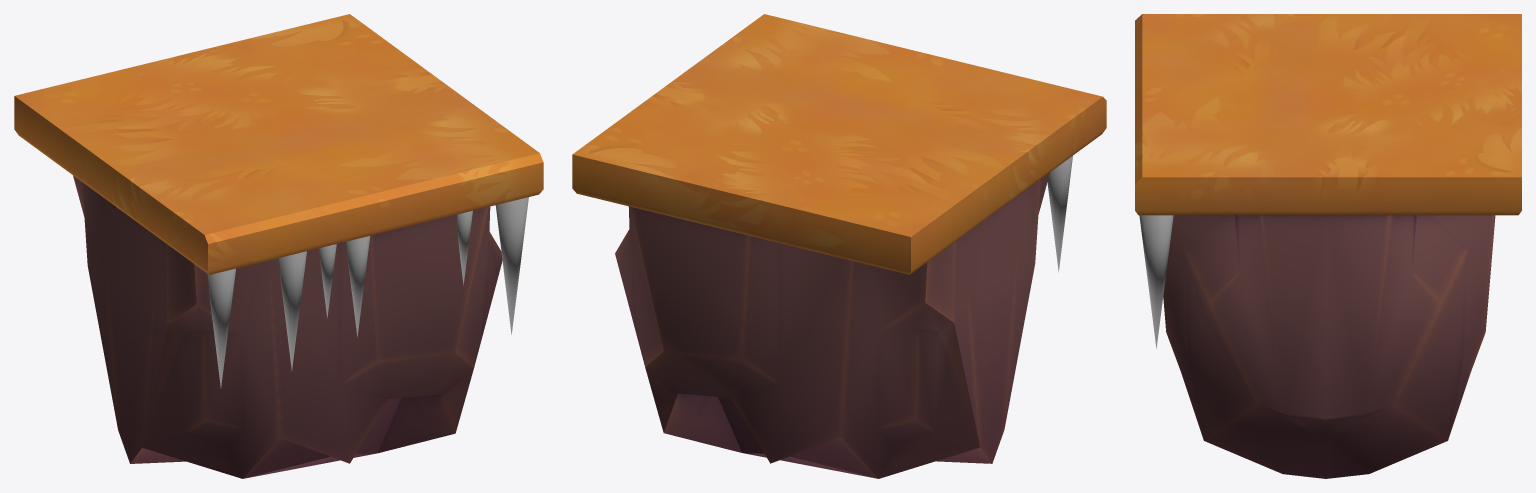
File: Side.FBX
3 views of the same model, side by side, from view 1: azimuth 30°, elevation 25°; view 2: azimuth 150°, elevation 25°; view 3: azimuth 270°, elevation 25° (orthographic).
Visible parts, largest first — view 1: Side, Ice Rock, Ice Rock005, Ice Rock004, Ice Rock003, Ice Rock002, Ice Rock001; view 2: Side, Ice Rock005; view 3: Side, Ice Rock.
Part boxes in pixels (x1,y1,x2,y2): Side: [14, 14, 543, 478]; Ice Rock: [495, 197, 528, 334]; Ice Rock005: [207, 268, 235, 388]; Ice Rock004: [278, 251, 306, 371]; Ice Rock003: [345, 236, 370, 337]; Ice Rock002: [318, 244, 336, 317]; Ice Rock001: [457, 211, 472, 285]; Side: [572, 14, 1106, 478]; Ice Rock005: [1047, 156, 1072, 272]; Side: [1135, 14, 1521, 478]; Ice Rock: [1139, 215, 1173, 349].
Bounding box in the file's own units: 10.82 × 10.63 × 9.94.
